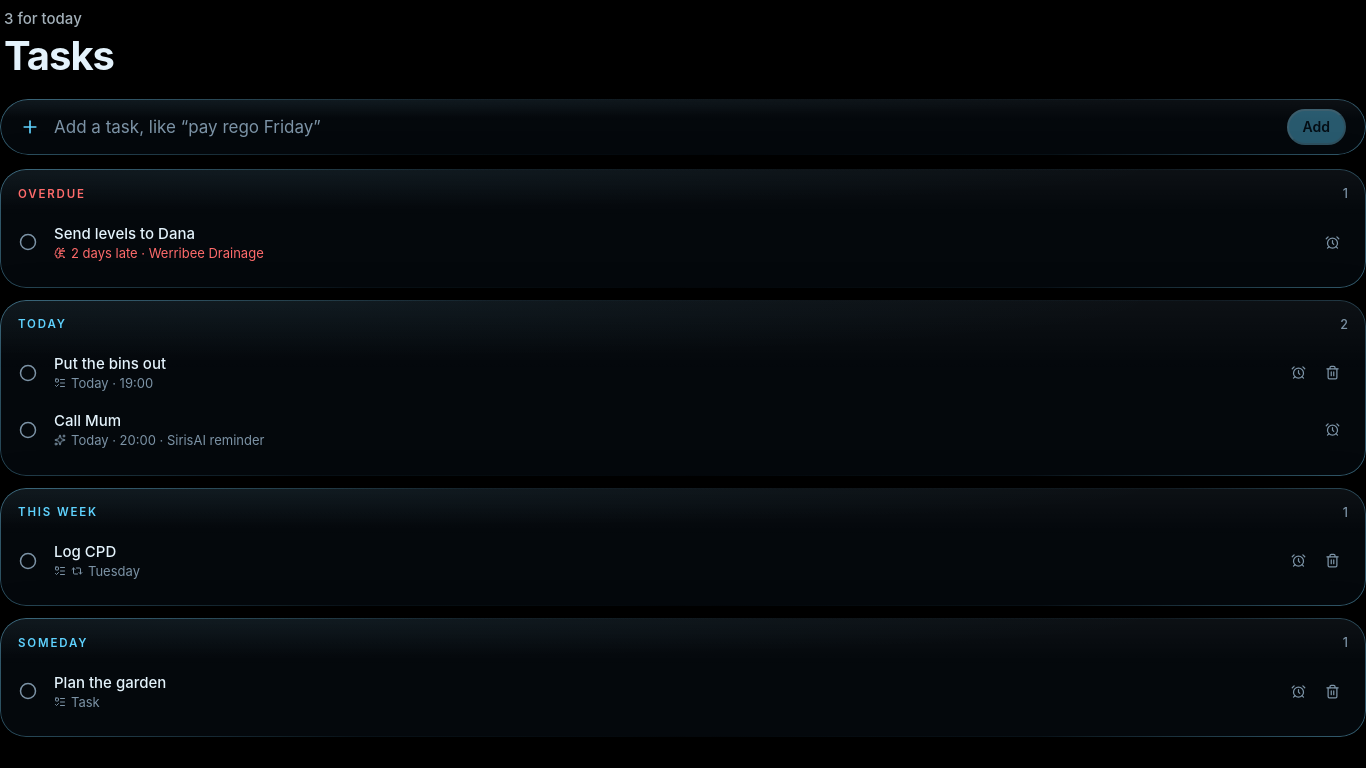
Test case: <TasksScreen /> › snoozes a task to tomorrow
Step 1. Click the button named "Snooze Put the bins out" → (1298, 373), box [1282,357,1314,389]
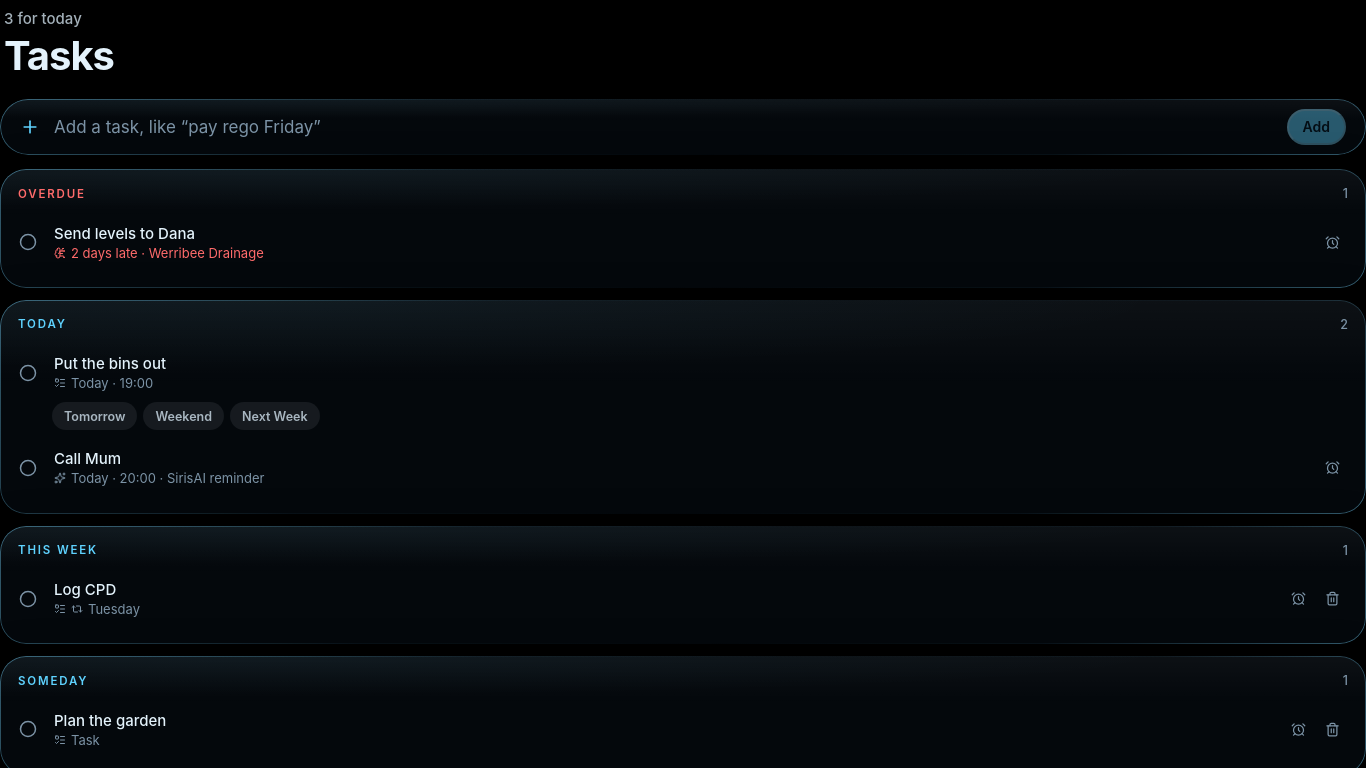
Step 2. Click the button "Tomorrow" → (95, 416), box [52,402,138,430]
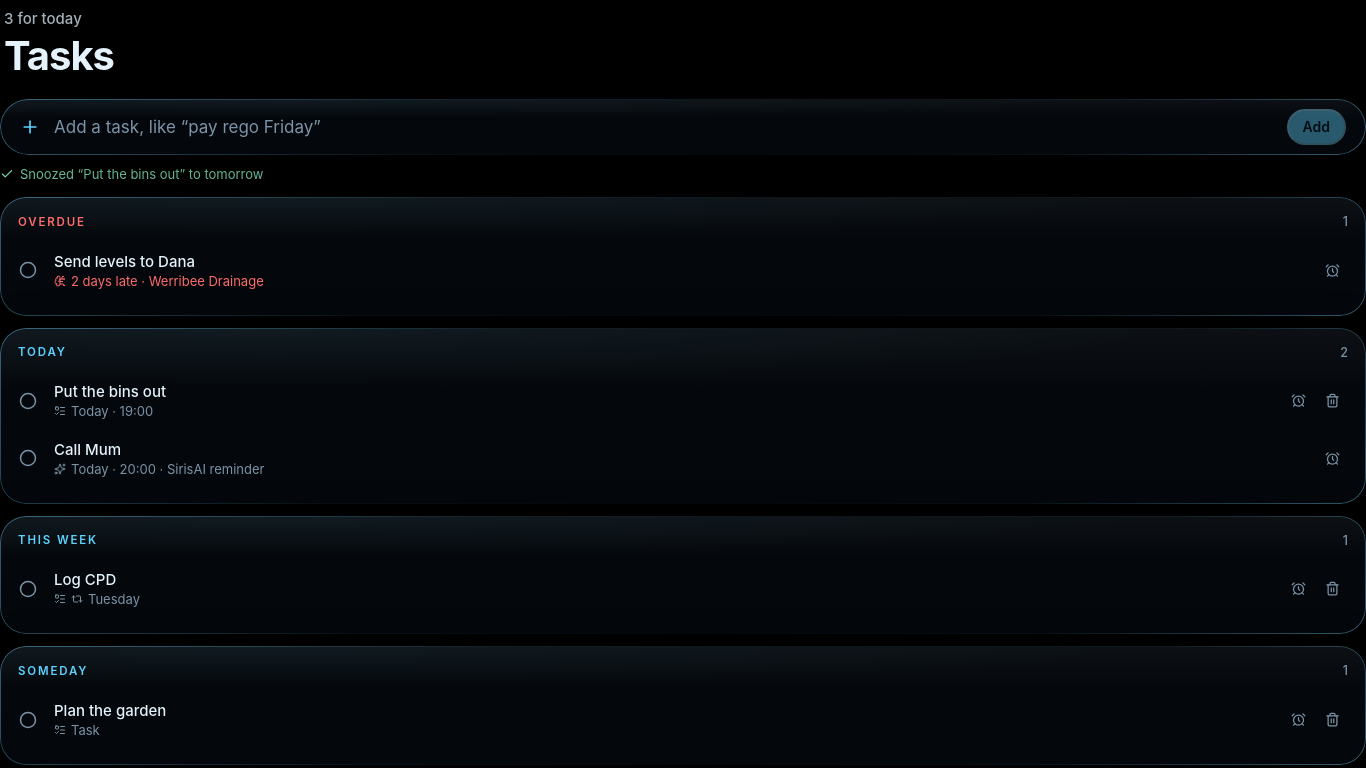
Result: the message reads "Snoozed “Put the bins out” to tomorrow" at [20,166,264,182]
